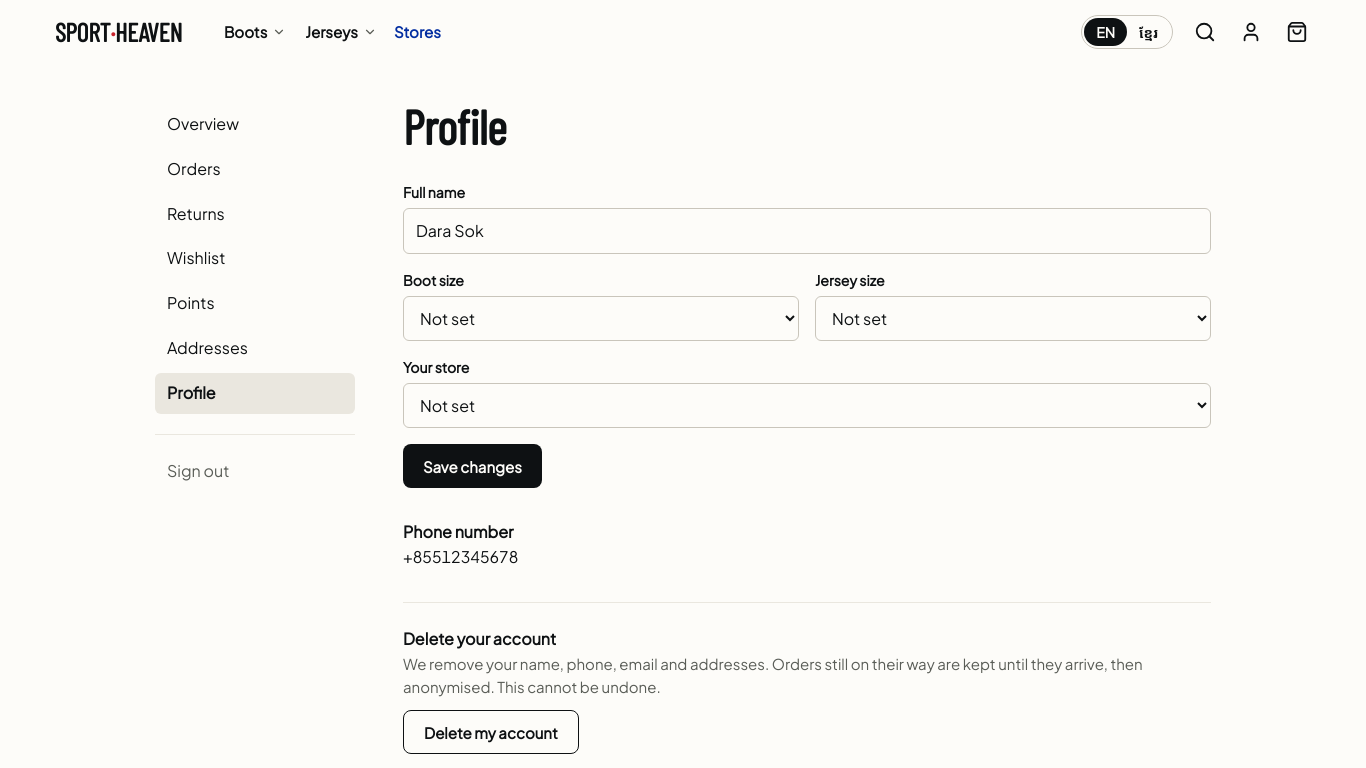
account › saves the profile
The width and height of the screenshot is (1366, 768).
Replace the text in the field labelled "Full name" with "Dara S." at [807, 231], box [403,208,1211,254]
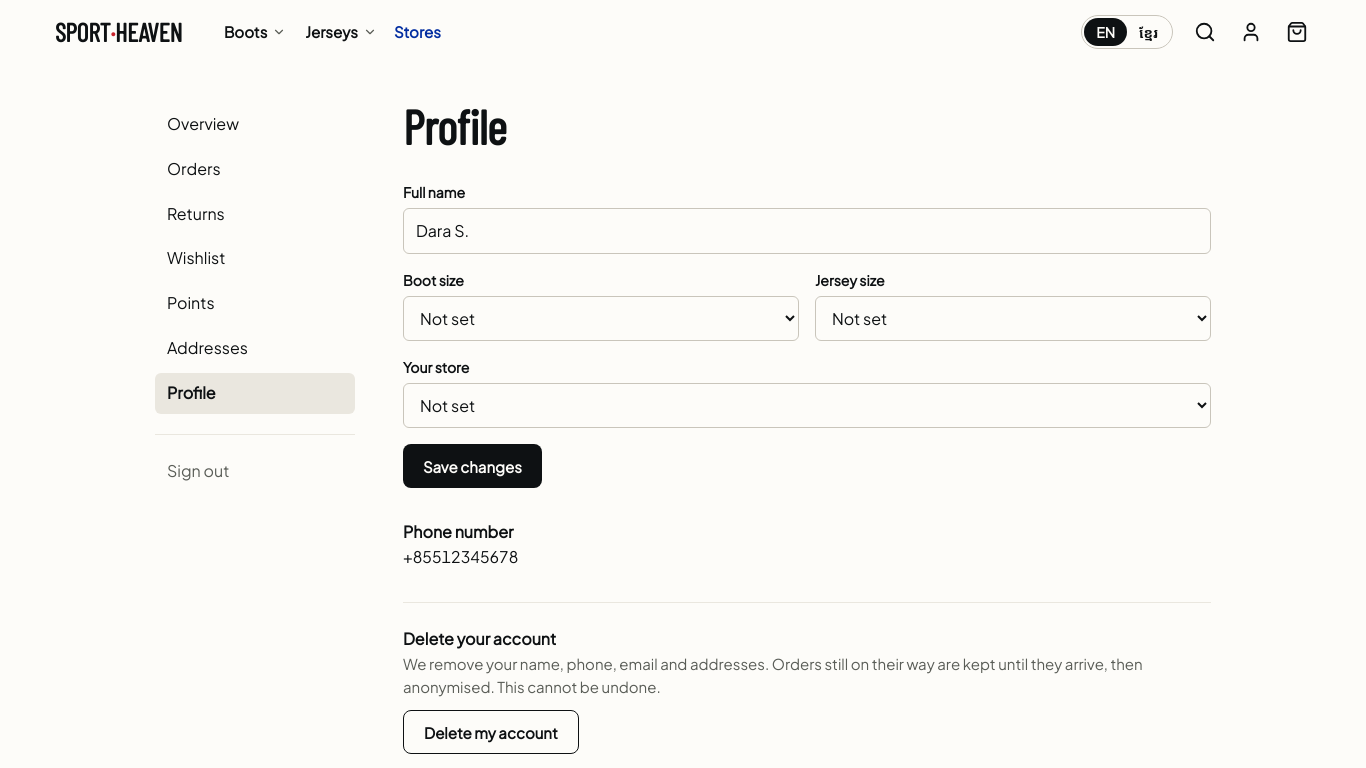
Select "M" in the dropdown labelled "Jersey size" at [1013, 319], box [815,296,1211,341]
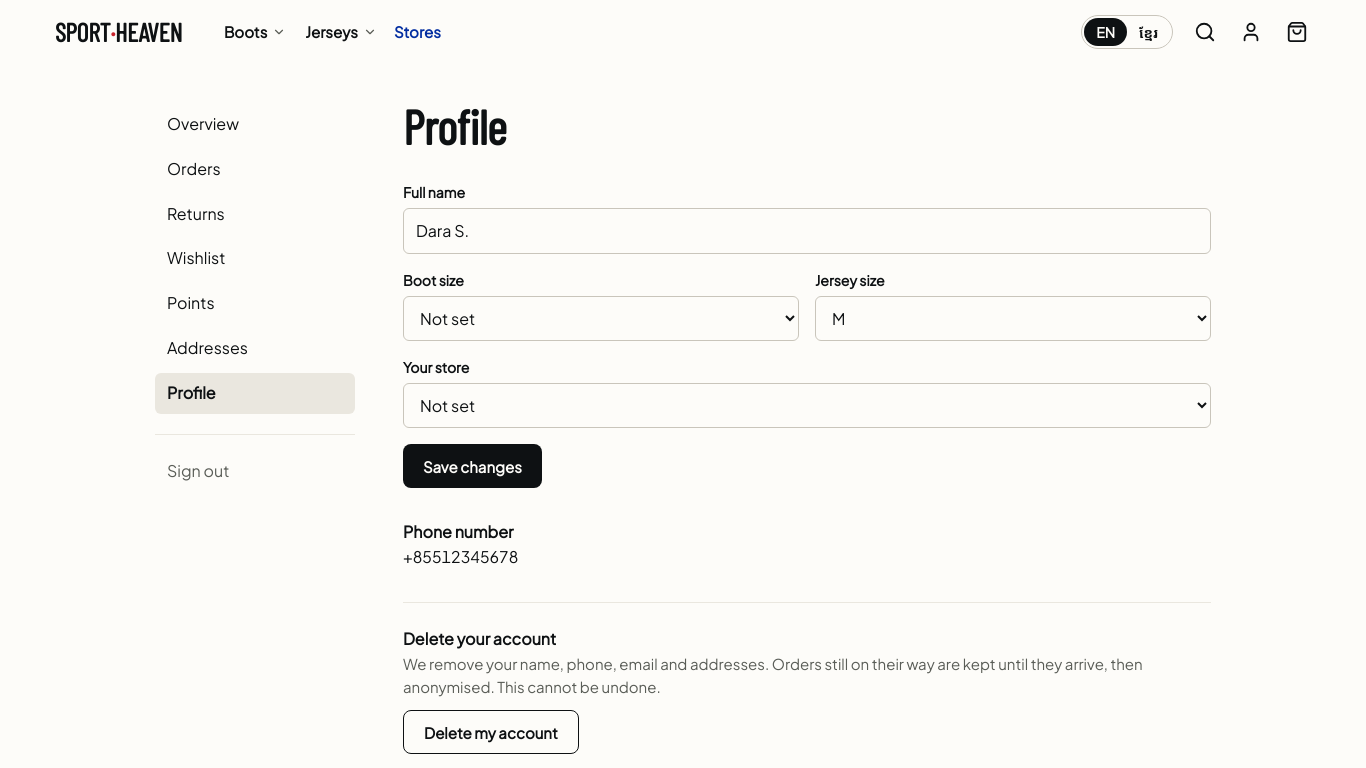
Click the button "Save changes" at [472, 466], box [403,444,542,488]
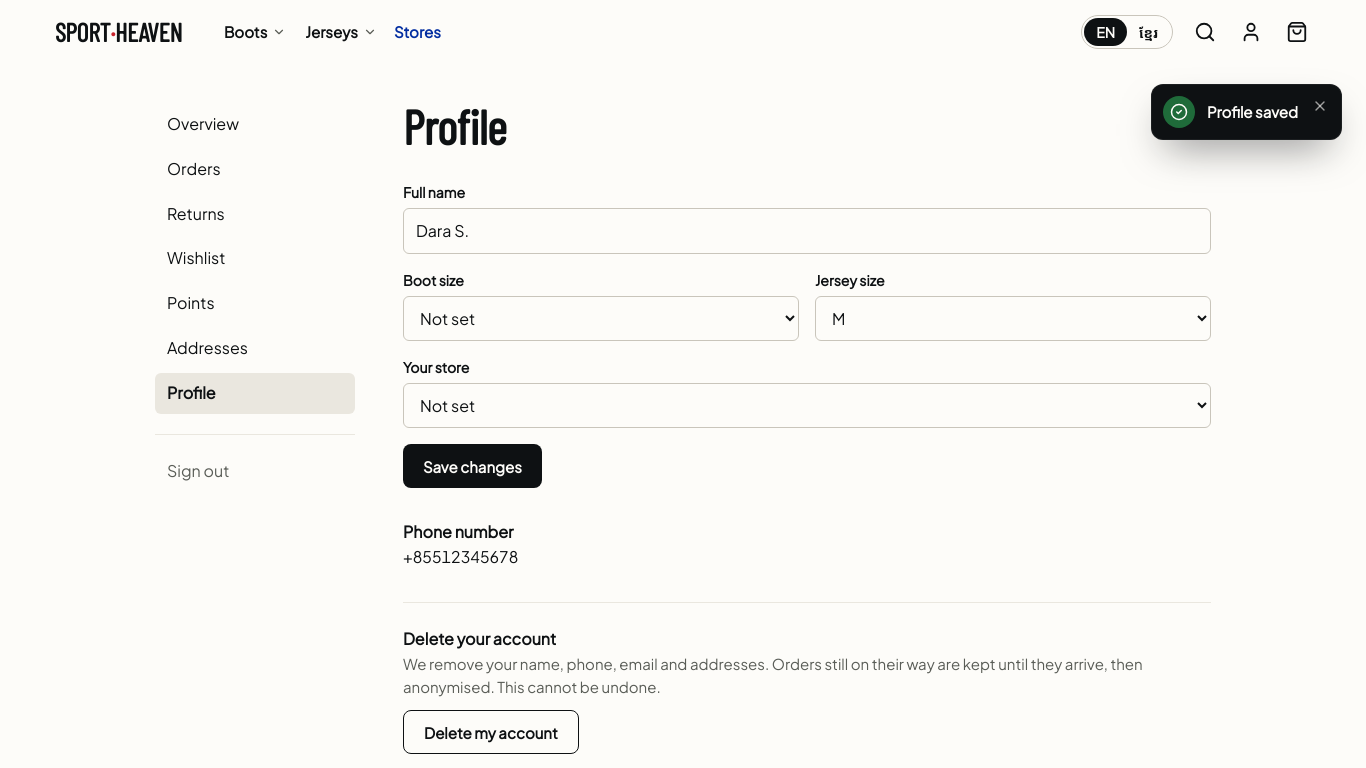
Expected: the text "Profile saved" is shown, [1207,102,1298,122]
